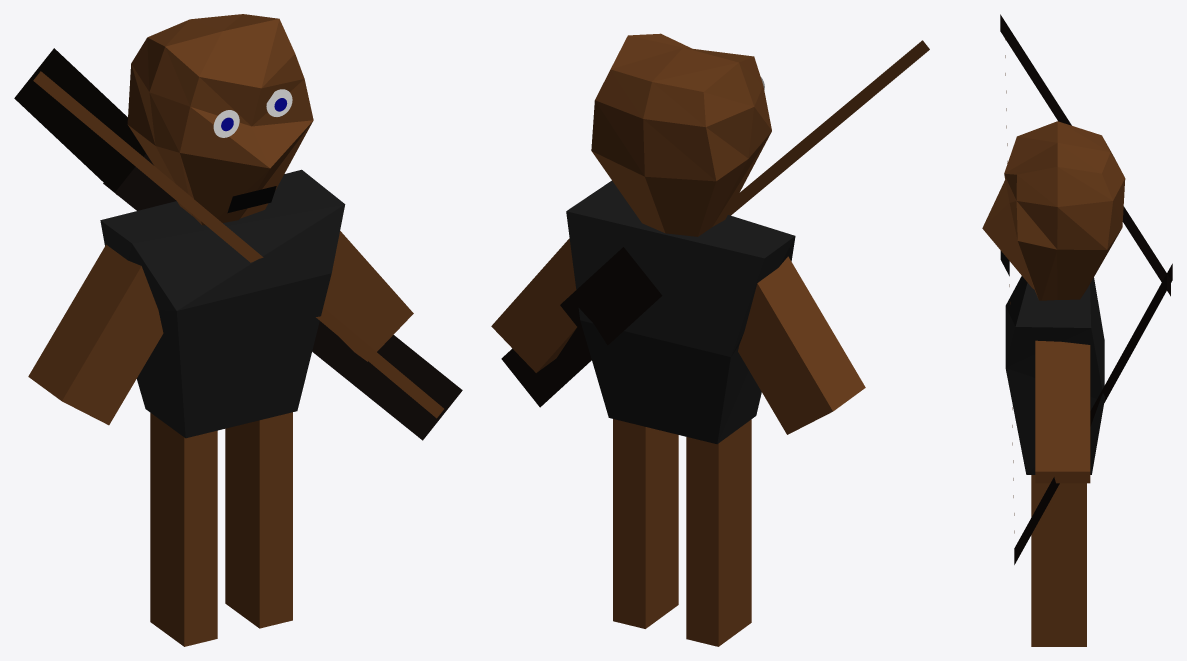
The model's file is archer1.obj.
The picture shows the model from 3 angles, left to right: view 1: azimuth 30°, elevation 25°; view 2: azimuth 150°, elevation 25°; view 3: azimuth 270°, elevation 25°; orthographic projection. The views are drawn at different scales.
Visible parts, largest first — view 1: Cube.001, Cube, Cube.004, Cube.005, Cube.003, Plane.001_Plane.002, Plane.002_Plane.003, Plane.003_Plane.004, Cube.002, Plane; view 2: Cube.001, Cube, Cube.004, Cube.005, Cube.003, Plane.001_Plane.002, Cube.002, Plane.003_Plane.004; view 3: Cube, Cube.001, Cube.005, Cube.002, Plane.001_Plane.002, Plane.002_Plane.003.
Part boxes in pixels (left/top/right/bottom): Cube.001: left=100, top=169, right=345, bottom=438; Cube: left=127, top=14, right=313, bottom=225; Cube.004: left=150, top=413, right=217, bottom=646; Cube.005: left=225, top=412, right=292, bottom=628; Cube.003: left=28, top=244, right=163, bottom=425; Plane.001_Plane.002: left=103, top=153, right=462, bottom=440; Plane.002_Plane.003: left=14, top=48, right=145, bottom=194; Plane.003_Plane.004: left=33, top=71, right=443, bottom=418; Cube.002: left=323, top=231, right=413, bottom=361; Plane: left=227, top=186, right=276, bottom=213; Cube.001: left=566, top=180, right=795, bottom=444; Cube: left=591, top=33, right=771, bottom=236; Cube.004: left=686, top=419, right=751, bottom=646; Cube.005: left=613, top=419, right=678, bottom=628; Cube.003: left=738, top=256, right=865, bottom=434; Plane.001_Plane.002: left=501, top=247, right=662, bottom=407; Cube.002: left=491, top=238, right=576, bottom=372; Plane.003_Plane.004: left=728, top=40, right=929, bottom=215; Cube: left=982, top=121, right=1125, bottom=300; Cube.001: left=1005, top=276, right=1104, bottom=474; Cube.005: left=1031, top=475, right=1086, bottom=646; Cube.002: left=1035, top=340, right=1090, bottom=483; Plane.001_Plane.002: left=1014, top=263, right=1172, bottom=564; Plane.002_Plane.003: left=1000, top=14, right=1170, bottom=296.
Size of the model in its own units: 4.75 by 6.44 by 2.1.
